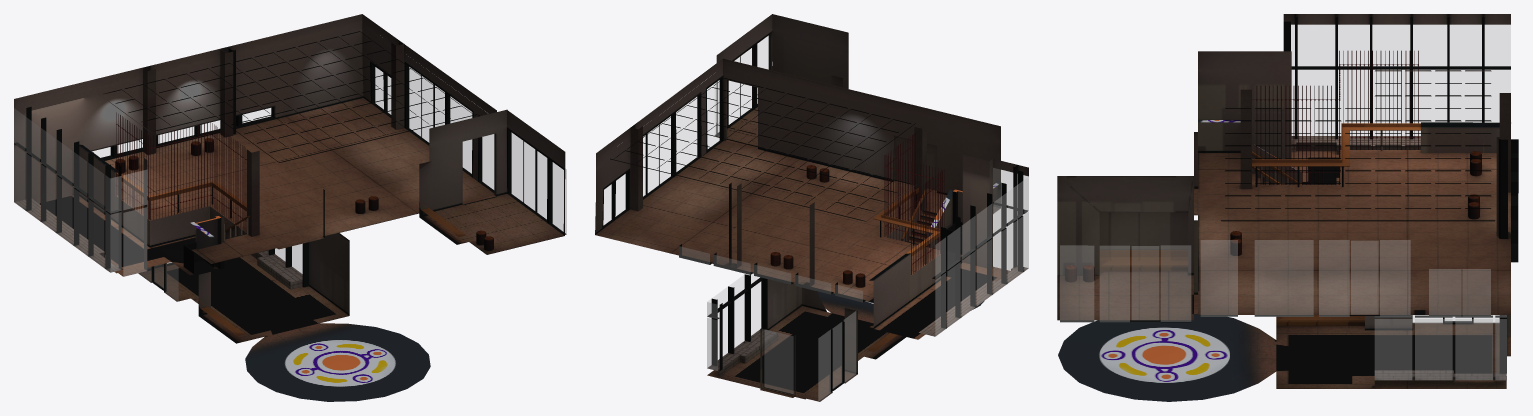
Rendered from exhibition_space_4.glb.
3 renders of one model, left to right at view 1: azimuth 30°, elevation 25°; view 2: azimuth 150°, elevation 25°; view 3: azimuth 270°, elevation 25°, orthographic. The views are drawn at different scales.
Parts seen in each view (by area): view 1: exhibition_geo; view 2: exhibition_geo; view 3: exhibition_geo.
Boxes of the visible parts, x1,y1,x2,y2 form: exhibition_geo: (14, 14, 566, 401); exhibition_geo: (595, 14, 1028, 401); exhibition_geo: (1057, 14, 1518, 401).
Size of the model in its own units: 20.54 by 10.96 by 19.16.
2 materials, 1 textured.
